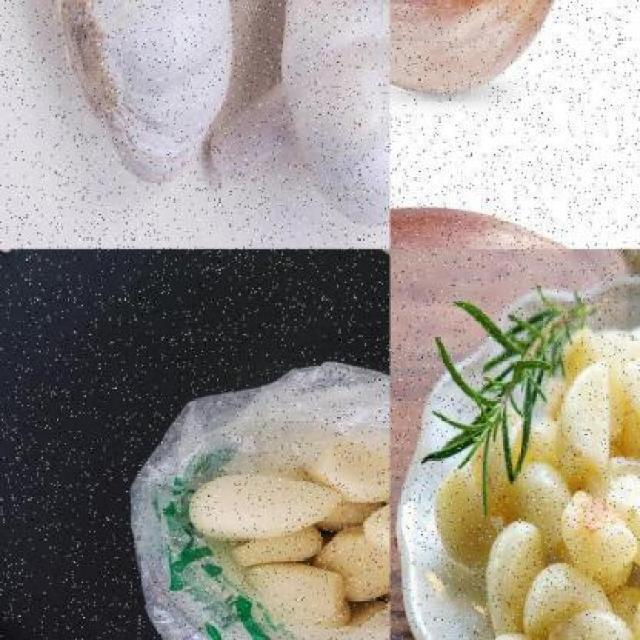garlic: (436, 318, 639, 640), (47, 0, 310, 186), (209, 0, 389, 231), (189, 428, 389, 628), (390, 0, 578, 102), (186, 472, 345, 546), (558, 486, 638, 596), (557, 354, 618, 472)
